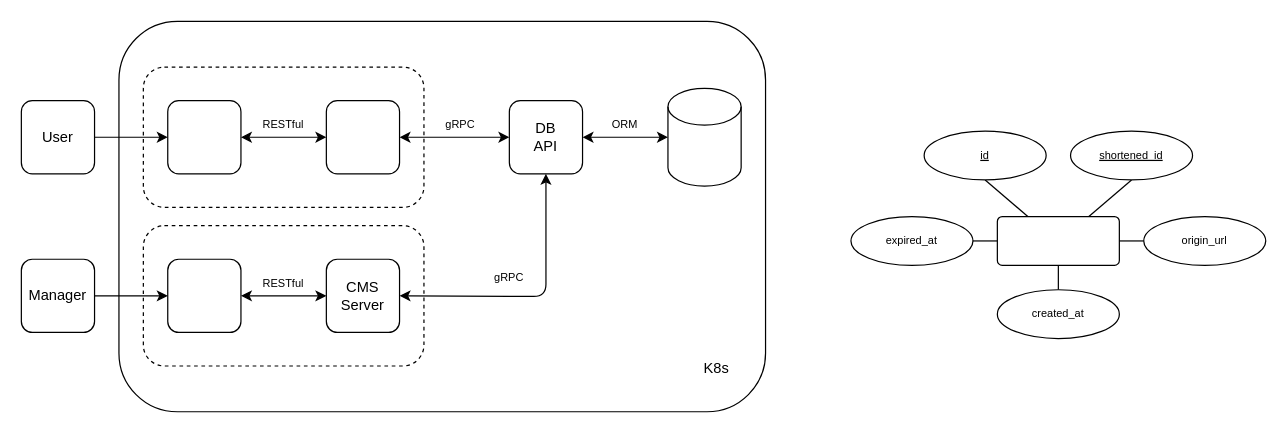
Some shapes in this 1287 by 433 pixel diagram are drawn without their labels. The shapes that lost their labels are listed below. From the top down, each one's centre as x and y in pixels, then its label:
the point at 204,136: SSR Client
the point at 362,136: Server
the point at 704,136: DB
the point at 1057,240: record
the point at 204,295: CMS SSR Client
